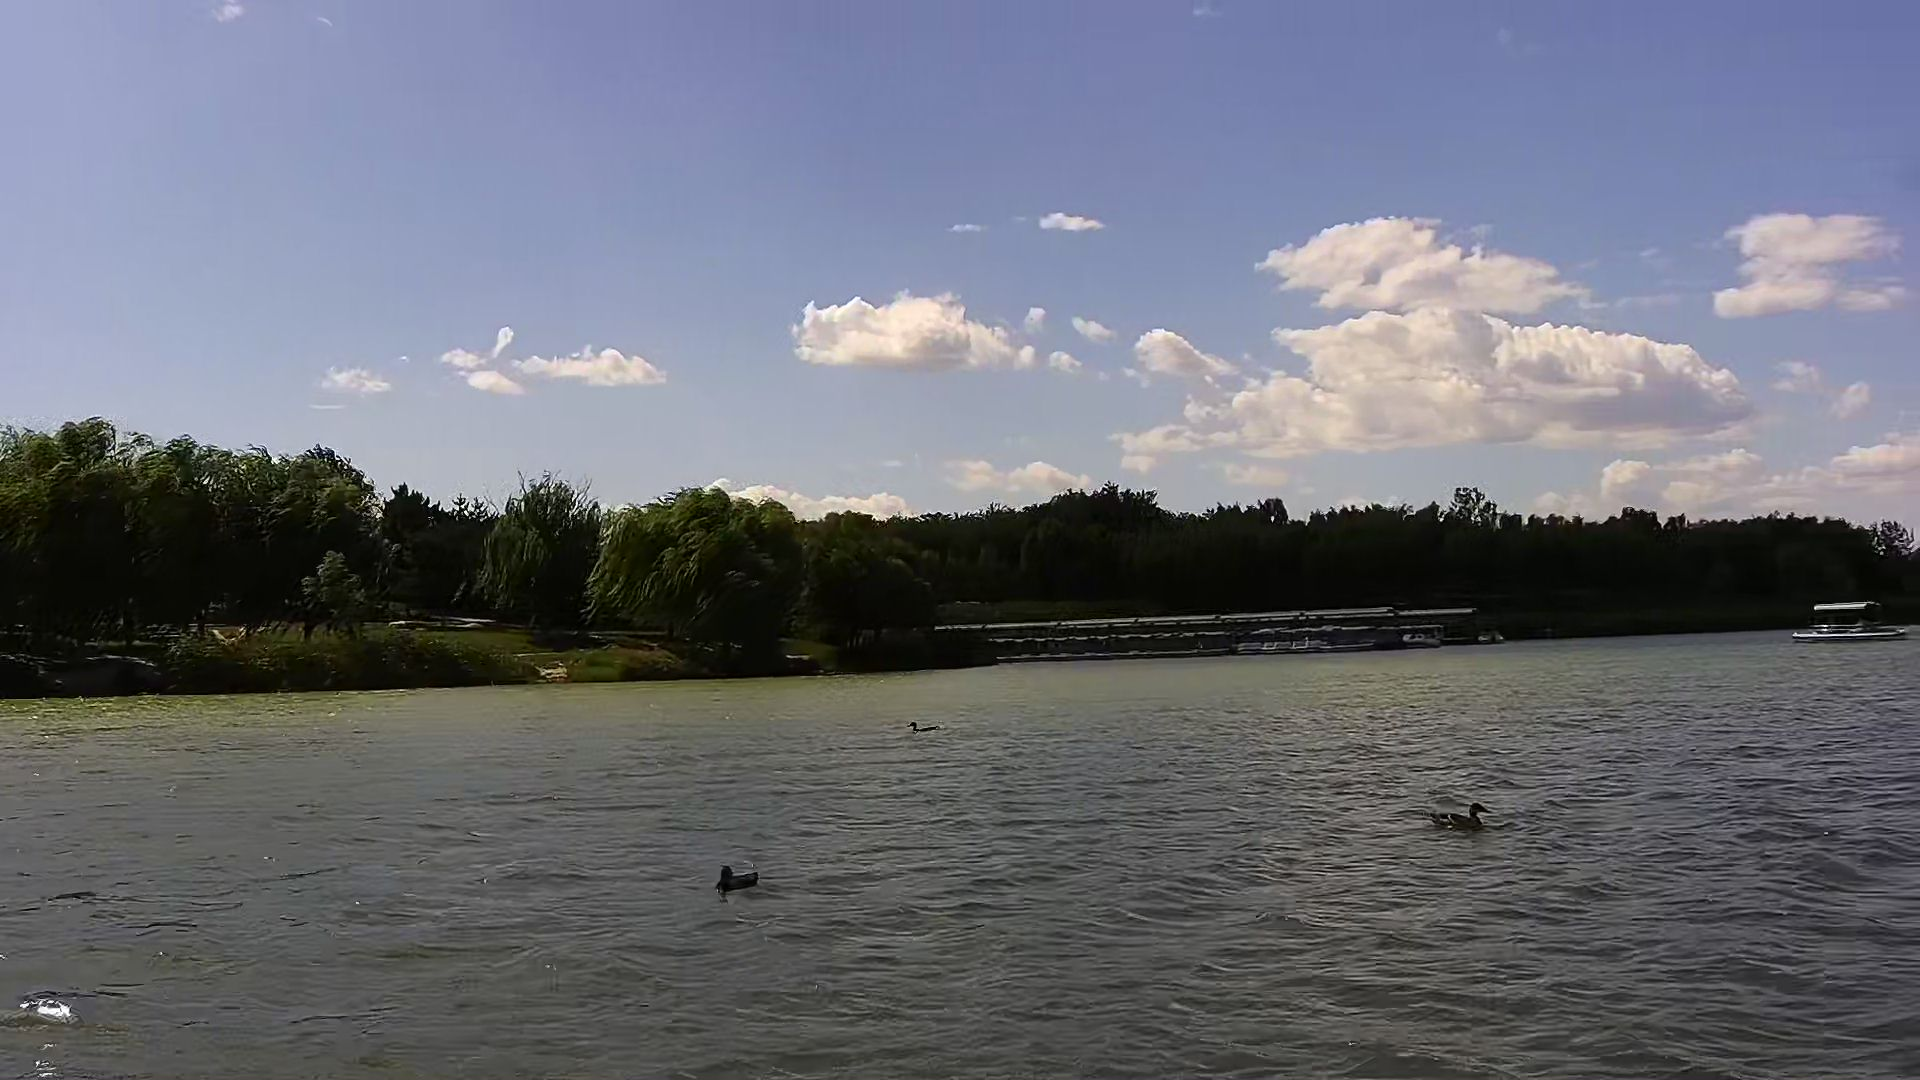animal: (1427, 791, 1501, 841), (708, 852, 761, 897), (905, 709, 945, 741)
boat: (1775, 584, 1905, 649)
harbor: (997, 604, 1506, 665)
rubbish: (7, 978, 88, 1036)
